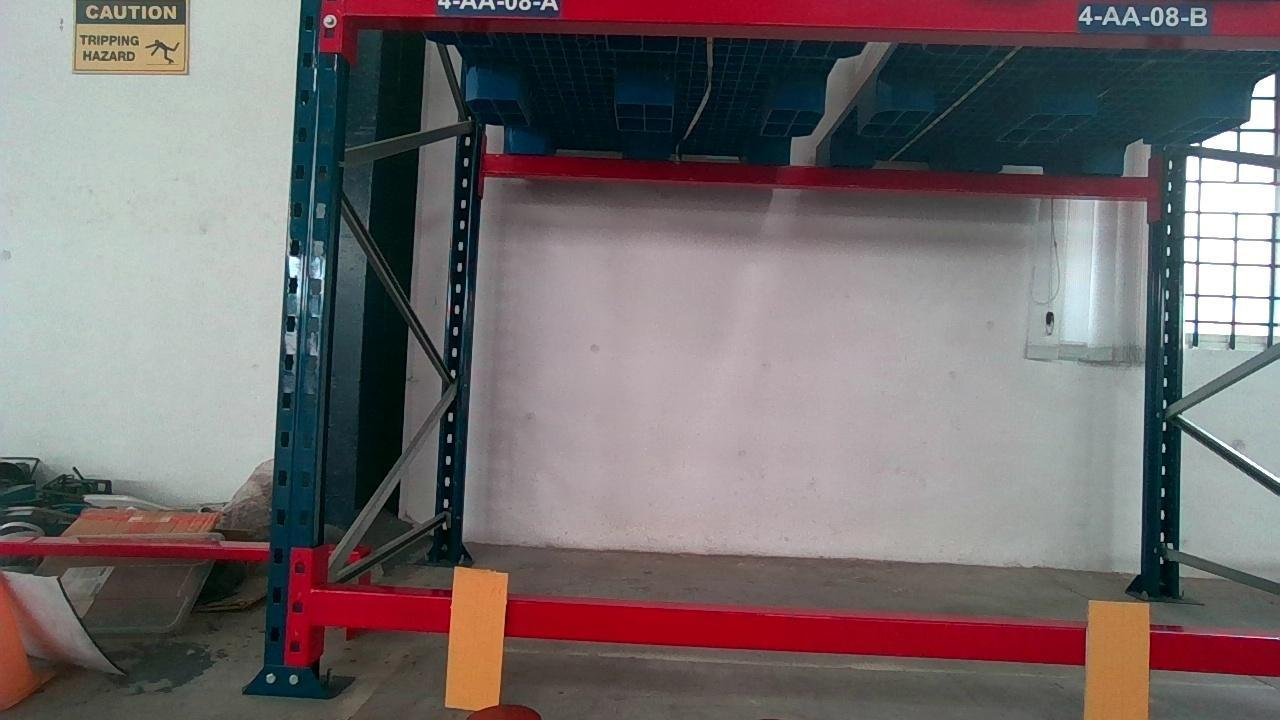h_rack: (308, 588, 1277, 672), (339, 0, 1279, 38)
orange_strip: (445, 566, 506, 708), (1085, 602, 1151, 720)
